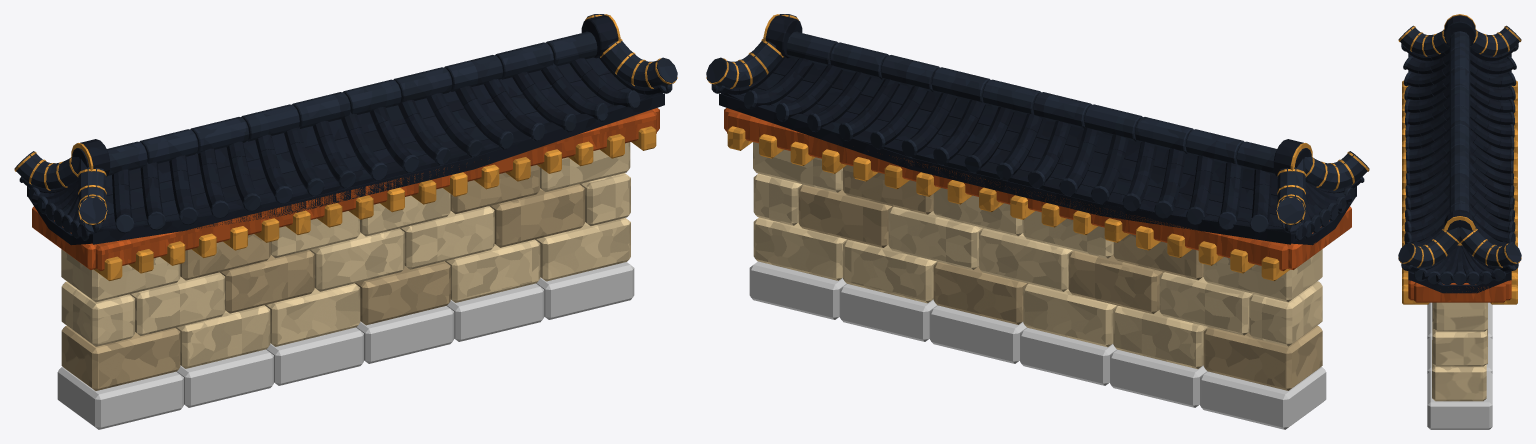
Rendered from Test_Cheon_Wall.fbx.
3 views of the same model, side by side, from view 1: azimuth 30°, elevation 25°; view 2: azimuth 150°, elevation 25°; view 3: azimuth 270°, elevation 25° (orthographic). The views are drawn at different scales.
Visible parts, largest first — view 1: WallRoof_EaveFascia, WallRoof_Front_UnderRoof, Wall_Stone_Row0_Block00, Wall_Foundation_00, Wall_Stone_Row0_Block03, Wall_Stone_Row0_Block05, Wall_Stone_Row1_Block01, Wall_Stone_Row1_Block05, Wall_Stone_Row0_Block02, Wall_Stone_Row1_Block03, Wall_Stone_Row0_Block04, Wall_Stone_Row1_Block04 (+30 smaller); view 2: WallRoof_Back_UnderRoof, WallRoof_EaveFascia.001, Wall_Stone_Row0_Block00, Wall_Foundation_00, Wall_Stone_Row1_Block02, Wall_Stone_Row0_Block01, Wall_Stone_Row1_Block04, Wall_Stone_Row0_Block04, Wall_Stone_Row0_Block02, Wall_Stone_Row1_Block05, Wall_Stone_Row1_Block03, Wall_Stone_Row1_Block01 (+30 smaller); view 3: Wall_Foundation_05, Wall_Stone_Row0_Block05, Wall_Stone_Row1_Block06, Wall_Stone_Row2_Block05, WallRoof_SideFascia.001, WallRoof_Back_HipRoll_1, WallRoof_Front_HipRoll_1, WallRoof_Back_HipRoll_-1, WallRoof_Front_HipRoll_-1, WallRoof_HipSide_1, WallRoof_RidgeEndCap, WallRoof_RidgeTile_06 (+110 smaller).
Part boxes in pixels (x1=…): WallRoof_EaveFascia: x1=95, y1=110, x2=656, y2=271; WallRoof_Front_UnderRoof: x1=93, y1=93, x2=664, y2=244; Wall_Stone_Row0_Block00: x1=61, y1=326, x2=180, y2=390; Wall_Foundation_00: x1=57, y1=367, x2=183, y2=429; Wall_Stone_Row0_Block03: x1=355, y1=261, x2=450, y2=325; Wall_Stone_Row0_Block05: x1=535, y1=218, x2=630, y2=281; Wall_Stone_Row1_Block01: x1=130, y1=272, x2=225, y2=336; Wall_Stone_Row1_Block05: x1=489, y1=184, x2=584, y2=247; Wall_Stone_Row0_Block02: x1=265, y1=283, x2=360, y2=346; Wall_Stone_Row1_Block03: x1=309, y1=228, x2=404, y2=291; Wall_Stone_Row0_Block04: x1=445, y1=239, x2=540, y2=302; Wall_Stone_Row1_Block04: x1=400, y1=206, x2=494, y2=269; WallRoof_Back_UnderRoof: x1=719, y1=93, x2=1290, y2=244; WallRoof_EaveFascia.001: x1=727, y1=110, x2=1288, y2=271; Wall_Stone_Row0_Block00: x1=1203, y1=325, x2=1322, y2=390; Wall_Foundation_00: x1=1200, y1=367, x2=1326, y2=429; Wall_Stone_Row1_Block02: x1=1068, y1=250, x2=1164, y2=313; Wall_Stone_Row0_Block01: x1=1113, y1=306, x2=1208, y2=369; Wall_Stone_Row1_Block04: x1=888, y1=206, x2=984, y2=269; Wall_Stone_Row0_Block04: x1=843, y1=240, x2=938, y2=303; Wall_Stone_Row0_Block02: x1=1023, y1=284, x2=1118, y2=347; Wall_Stone_Row1_Block05: x1=798, y1=184, x2=893, y2=247; Wall_Stone_Row1_Block03: x1=979, y1=228, x2=1073, y2=291; Wall_Stone_Row1_Block01: x1=1159, y1=272, x2=1254, y2=335; Wall_Foundation_05: x1=1427, y1=371, x2=1492, y2=429; Wall_Stone_Row0_Block05: x1=1432, y1=340, x2=1486, y2=401; Wall_Stone_Row1_Block06: x1=1432, y1=321, x2=1486, y2=366; Wall_Stone_Row2_Block05: x1=1433, y1=302, x2=1487, y2=331; WallRoof_SideFascia.001: x1=1414, y1=282, x2=1505, y2=302; WallRoof_Back_HipRoll_1: x1=1460, y1=227, x2=1521, y2=267; WallRoof_Front_HipRoll_1: x1=1398, y1=227, x2=1459, y2=267; WallRoof_Back_HipRoll_-1: x1=1466, y1=25, x2=1521, y2=55; WallRoof_Front_HipRoll_-1: x1=1398, y1=25, x2=1453, y2=55; WallRoof_HipSide_1: x1=1408, y1=272, x2=1511, y2=293; WallRoof_RidgeEndCap: x1=1444, y1=15, x2=1475, y2=45; WallRoof_RidgeTile_06: x1=1449, y1=144, x2=1470, y2=172.
Size of the model in its own units: 5.63 by 2.45 by 1.29.
